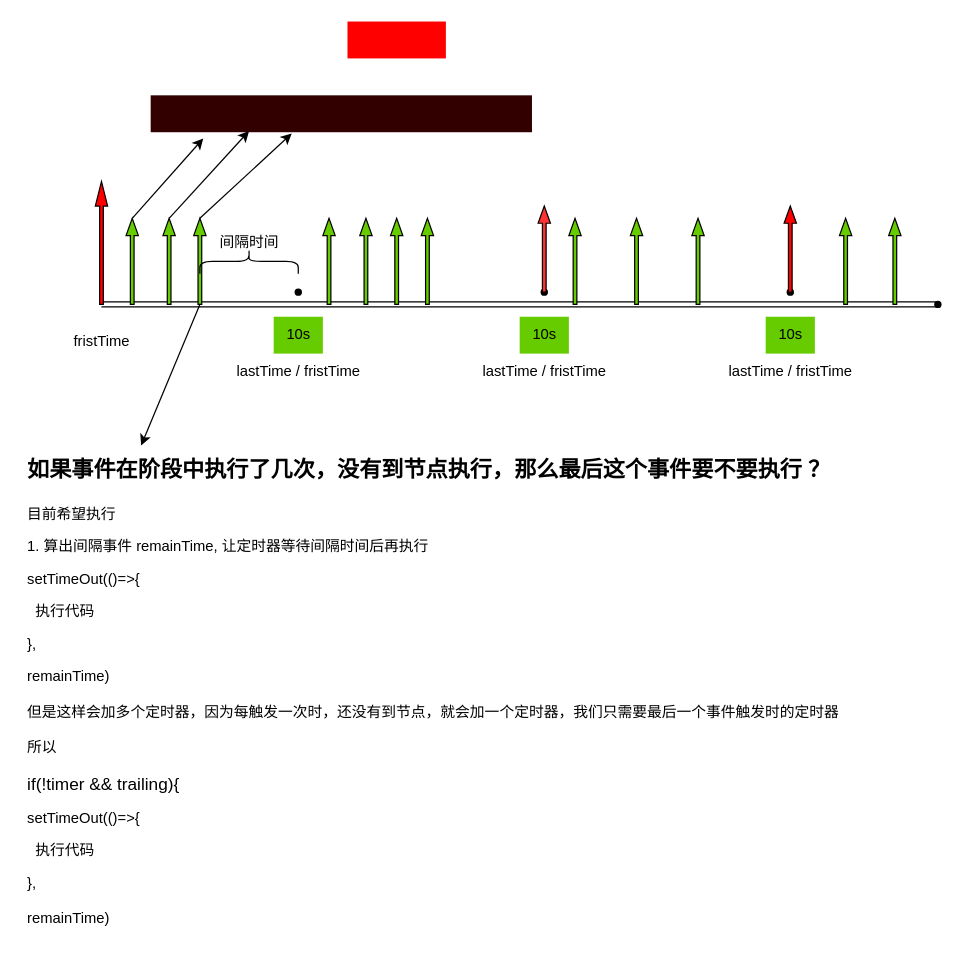
The diagram is 972 pixels wide and 968 high, and some of its shapes have lost their labels. The box of each missing label's shape, as (x1, y1, x2, y2) in pixels:
每个事件触发的的当前时间 new Date().getTime（）: (150, 95, 531, 132)
节流的过程: (347, 21, 445, 58)
